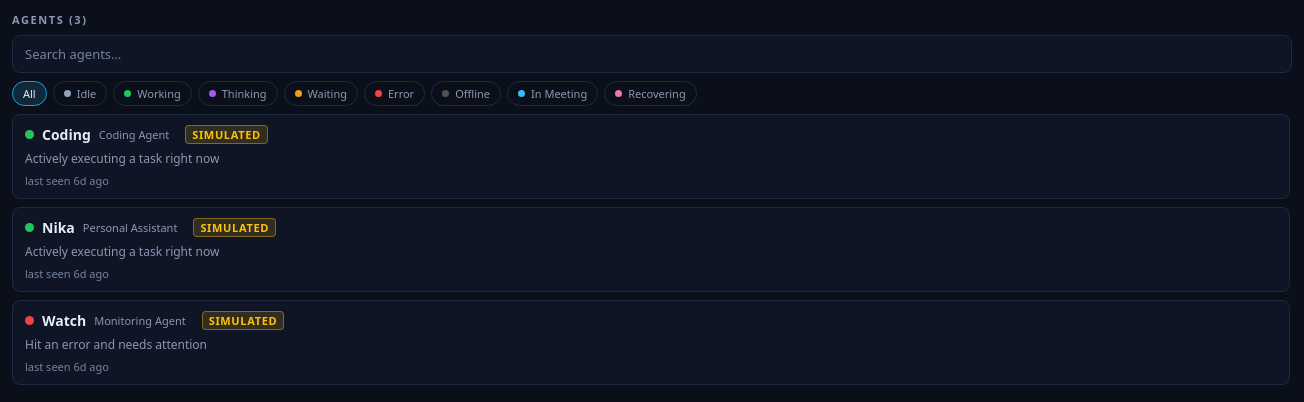
Test: AgentList › shows an empty state when nothing matches
Type "zzz-no-such-agent" into the search field labelled "Search agents…".
click(652, 54); type("zzz-no-such-agent")  # box 12,35 -> 1292,73
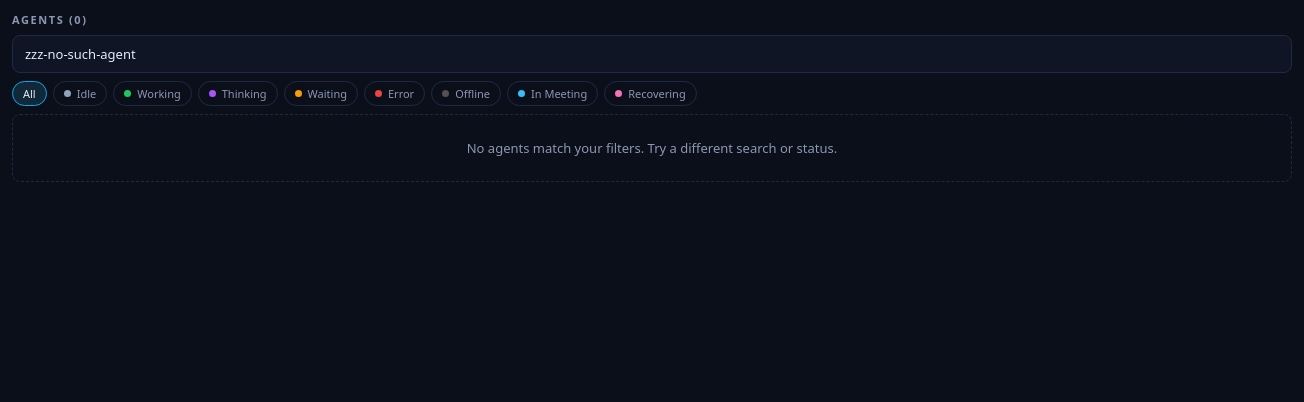
Result: the text "No agents match" is shown at 467,139 -> 837,157
